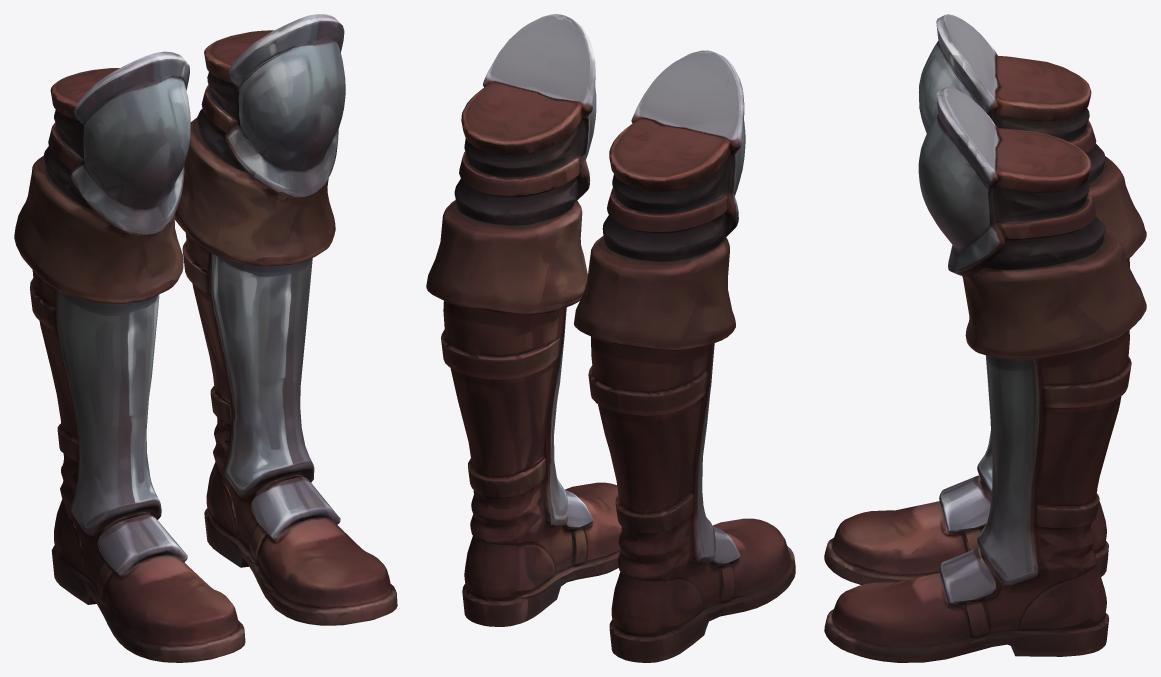
The model's file is warrior_f_greaves.glb.
The picture shows the model from 3 angles, left to right: view 1: azimuth 30°, elevation 25°; view 2: azimuth 150°, elevation 25°; view 3: azimuth 270°, elevation 25°; orthographic projection. The views are drawn at different scales.
Visible parts, largest first — view 1: model; view 2: model; view 3: model.
Boxes of the visible parts, <box> form: model: <box>14,14,397,662</box>; model: <box>426,14,795,662</box>; model: <box>824,14,1146,662</box>.
Size of the model in its own units: 0.3555 by 0.6808 by 0.36.
Materials: 1 (1 with a texture image).
